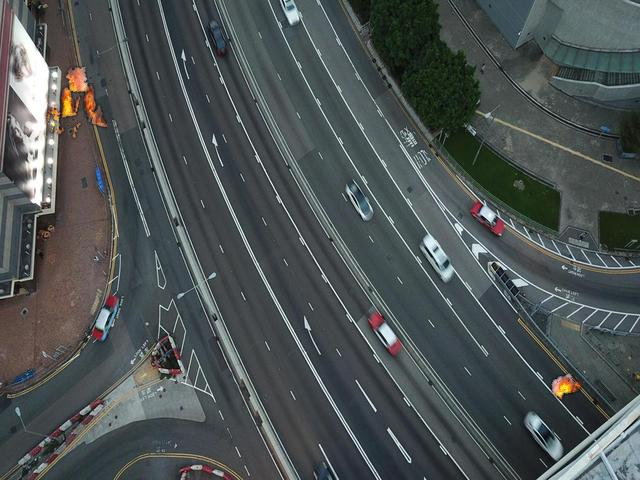fire: (7, 37, 92, 138), (60, 84, 106, 127), (549, 372, 582, 400)
